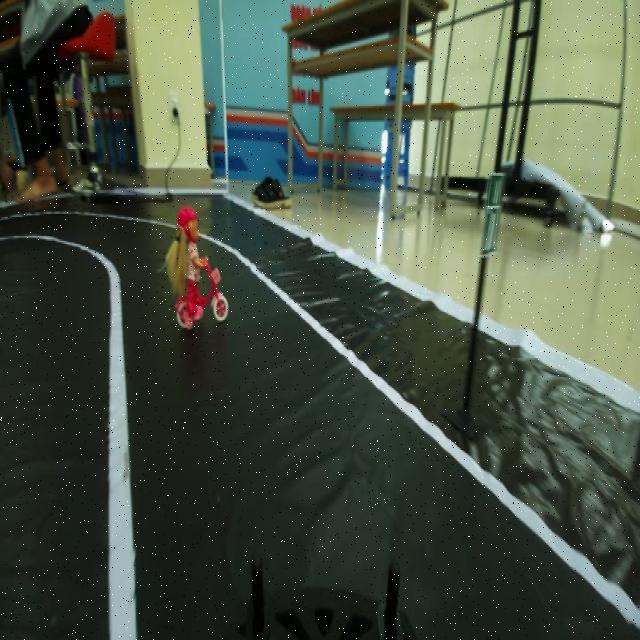highway_entry: (468, 160, 514, 272)
pedestrian: (156, 205, 237, 324)
